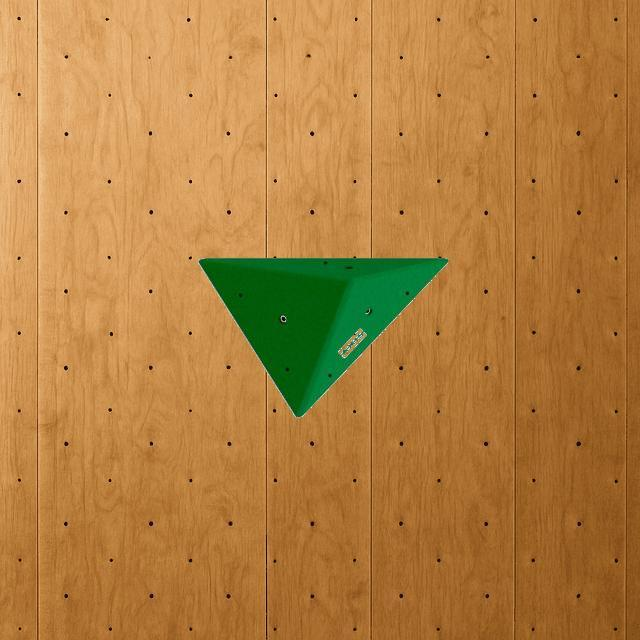Volume: (197, 258, 449, 418)
